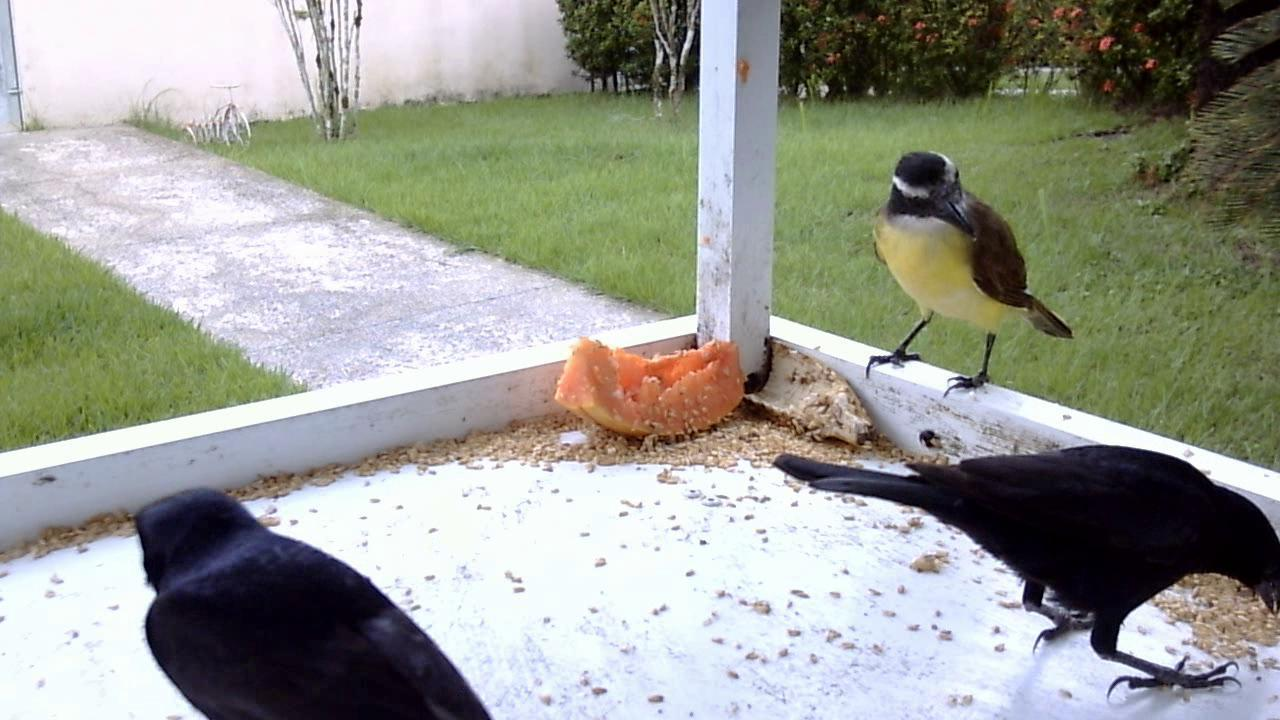bem_te_vi: (851, 140, 1087, 415)
chupim: (770, 409, 1273, 708), (127, 467, 504, 713)
